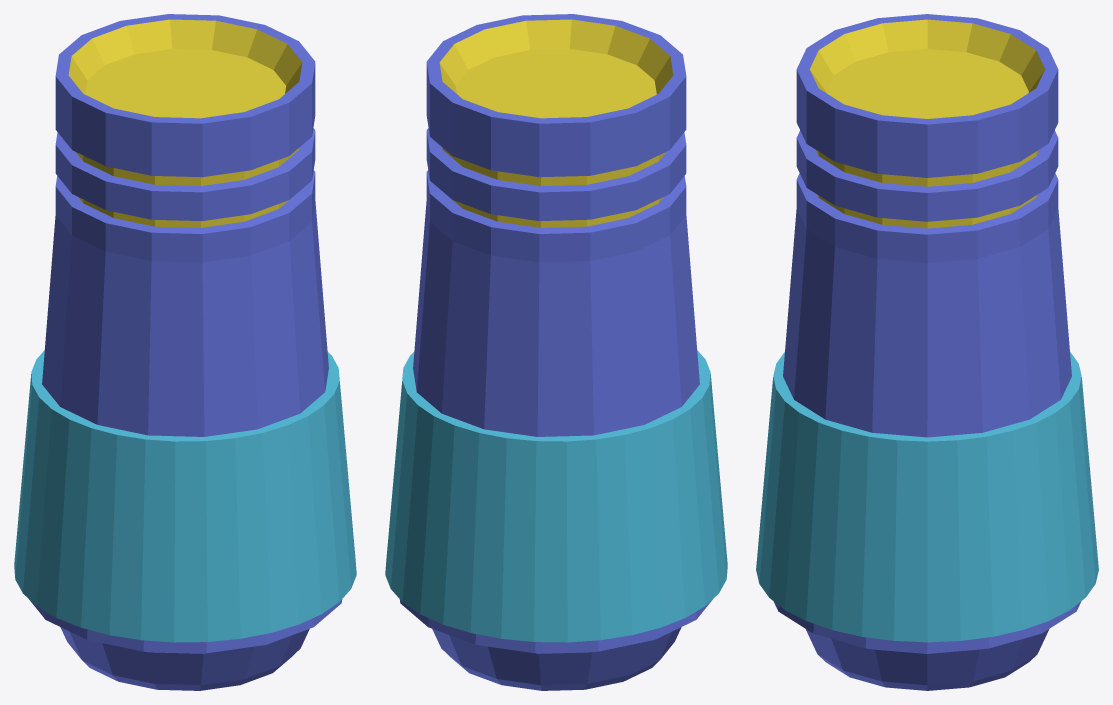
Rendered from blaster.fbx.
3 renders of one model, left to right at view 1: azimuth 30°, elevation 25°; view 2: azimuth 150°, elevation 25°; view 3: azimuth 270°, elevation 25°, orthographic.
Visible parts, largest first — view 1: Blaster, Hand Hold; view 2: Blaster, Hand Hold; view 3: Blaster, Hand Hold.
Part boxes in pixels (x1,y1,x2,y2): Blaster: [29, 14, 342, 690]; Hand Hold: [14, 350, 356, 642]; Blaster: [399, 14, 712, 690]; Hand Hold: [385, 350, 727, 642]; Blaster: [773, 14, 1081, 690]; Hand Hold: [756, 352, 1098, 642].
Bounding box in the file's own units: 262 × 485 × 262.
